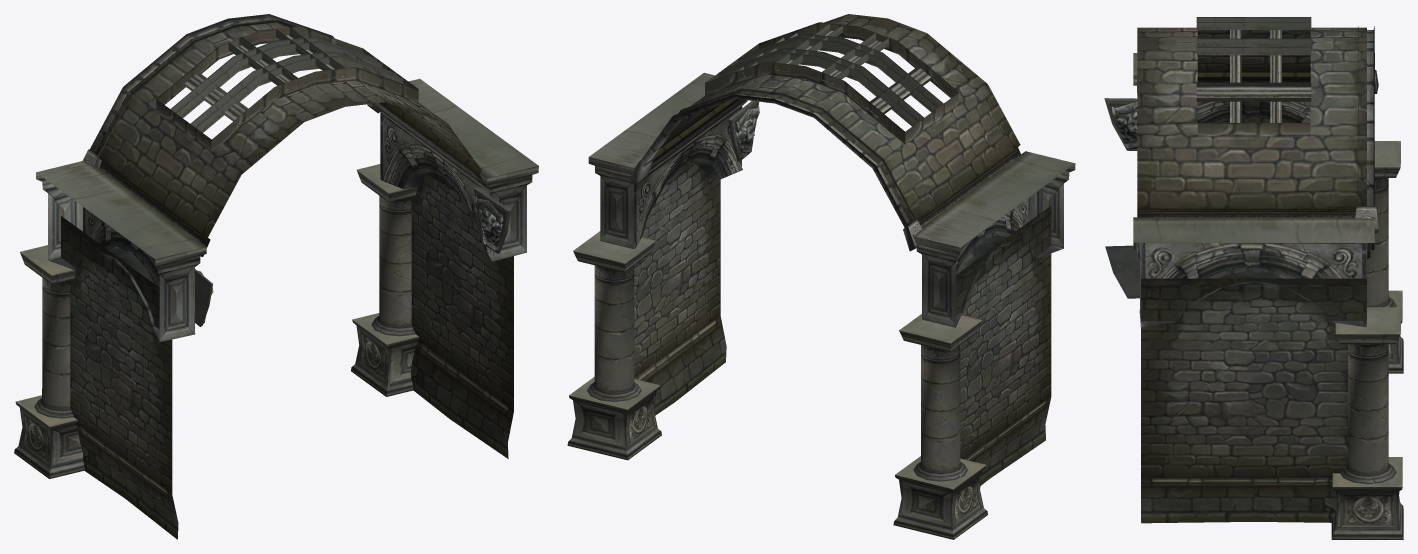
Rendered from DN_1_4_ldao01_w.FBX.
The picture shows the model from 3 angles, left to right: view 1: azimuth 30°, elevation 25°; view 2: azimuth 150°, elevation 25°; view 3: azimuth 270°, elevation 25°; orthographic projection. The views are drawn at different scales.
Parts seen in each view (by area): view 1: DN_1_4_ldao01_w; view 2: DN_1_4_ldao01_w; view 3: DN_1_4_ldao01_w.
Part boxes in pixels (x1,y1,x2,y2): DN_1_4_ldao01_w: (14, 14, 538, 539); DN_1_4_ldao01_w: (567, 14, 1075, 539); DN_1_4_ldao01_w: (1104, 17, 1403, 539).
Size of the model in its own units: 938 by 914 by 601.
